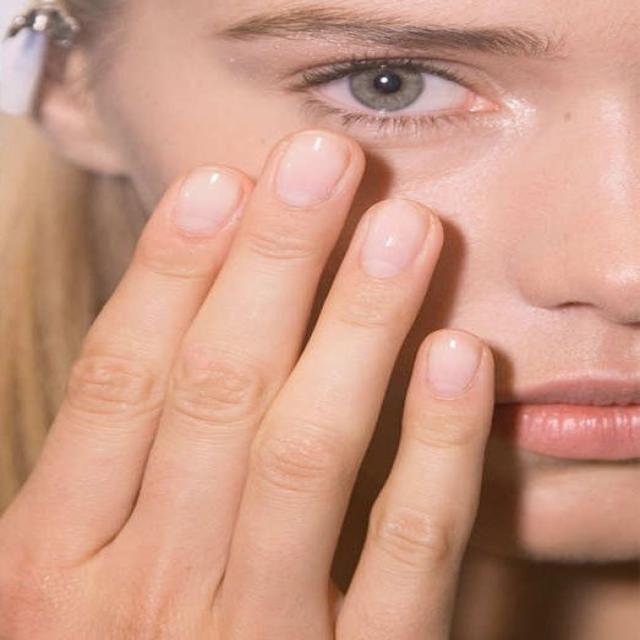Fingernail: (276, 133, 349, 207), (361, 200, 429, 278), (174, 169, 241, 236), (427, 332, 481, 398)
